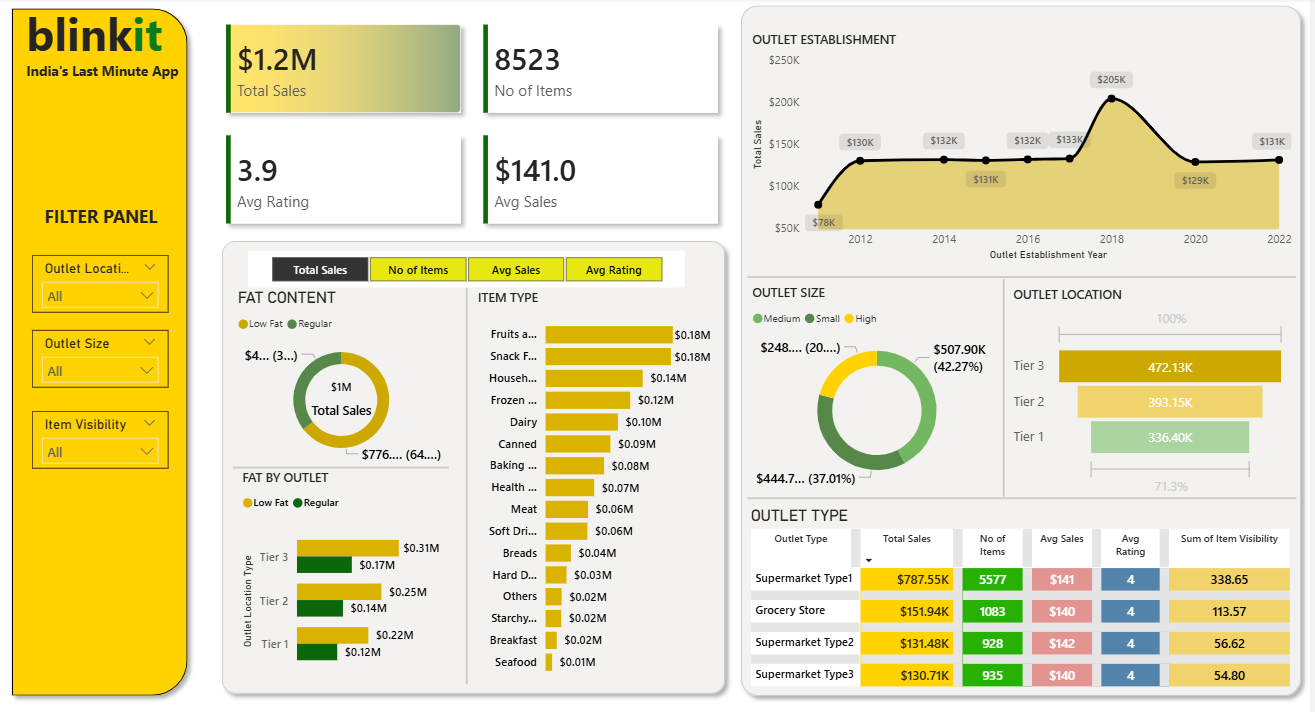

This screenshot's page, from the dashboard's own definition file:
{"tool":"powerbi","page":{"name":"Page 1","canvas":[1400,800],"ordinal":0},"visuals":[{"type":"shape","box":[8.3,3.3,205,750],"z":0},{"type":"textbox","box":[26.9,0,169.5,78.5],"z":1000},{"type":"textbox","box":[26.9,62,204.6,31],"z":2000},{"type":"cardVisual","fields":{"Data":["BlinkIT Grocery Data.Total Sales","BlinkIT Grocery Data.No of Items","BlinkIT Grocery Data.Avg Rating","BlinkIT Grocery Data.Avg Sales"]},"box":[215,0,583.3,270],"z":3000},{"type":"shape","box":[231.5,250.1,553.9,500.2],"z":4000},{"type":"donutChart","title":"FAT CONTENT","fields":{"Y":["BlinkIT Grocery Data.Total Sales"],"Category":["BlinkIT Grocery Data.Item Fat Content"]},"box":[252,310,230,192],"z":5000},{"type":"slicer","fields":{"Values":["Metrics.Metrics"]},"box":[268.7,270.8,465.1,39.3],"z":6000},{"type":"card","fields":{"Values":["BlinkIT Grocery Data.Total Sales"]},"box":[320,396,96,60],"z":7000},{"type":"clusteredBarChart","title":"FAT BY OUTLET","fields":{"Y":["BlinkIT Grocery Data.Total Sales"],"Category":["BlinkIT Grocery Data.Outlet Location Type"],"Series":["BlinkIT Grocery Data.Item Fat Content"]},"box":[258,502,220,230],"z":8000},{"type":"shape","box":[252,404,230,194],"z":9000},{"type":"shape","box":[392,310,220,422],"z":10000},{"type":"barChart","title":"ITEM TYPE","fields":{"Y":["BlinkIT Grocery Data.Total Sales"],"Category":["BlinkIT Grocery Data.Item Type"]},"box":[508,310,258,422],"z":11000},{"type":"shape","box":[785,0,614.4,753.6],"z":12000},{"type":"lineChart","title":"OUTLET ESTABLISHMENT","fields":{"Category":["BlinkIT Grocery Data.Outlet Establishment Year"],"Y":["BlinkIT Grocery Data.Total Sales"]},"box":[800.9,35.6,584,250],"z":13000},{"type":"shape","box":[800.9,201.6,584,194],"z":14000},{"type":"donutChart","title":"OUTLET SIZE","fields":{"Y":["BlinkIT Grocery Data.Total Sales"],"Category":["BlinkIT Grocery Data.Outlet Size"]},"box":[800.9,305.6,275,225],"z":15000},{"type":"funnel","title":"OUTLET LOCATION","fields":{"Y":["Sum(BlinkIT Grocery Data.Sales)"],"Category":["BlinkIT Grocery Data.Outlet Location Type"]},"box":[1078,306,300,230],"z":16000},{"type":"shape","box":[962.9,299.6,220,232],"z":17000},{"type":"shape","box":[800.5,436.2,584.6,195.4],"z":18000},{"type":"pivotTable","title":"OUTLET TYPE","fields":{"Rows":["BlinkIT Grocery Data.Outlet Type"],"Values":["BlinkIT Grocery Data.Total Sales","BlinkIT Grocery Data.No of Items","BlinkIT Grocery Data.Avg Sales","BlinkIT Grocery Data.Avg Rating","Sum(BlinkIT Grocery Data.Item Visibility)"]},"box":[798.3,541.6,589.6,198.7],"z":19000},{"type":"slicer","fields":{"Values":["BlinkIT Grocery Data.Outlet Location Type"]},"box":[38.7,274.7,145.3,61.3],"z":20000},{"type":"slicer","fields":{"Values":["BlinkIT Grocery Data.Outlet Size"]},"box":[38.8,355,145,61.2],"z":21000},{"type":"slicer","fields":{"Values":["BlinkIT Grocery Data.Item Visibility"]},"box":[38.8,441.2,145,61.2],"z":22000},{"type":"textbox","box":[38.3,215,146.7,35],"z":23000}]}

Visuals, with their boxes on the page's 1400x800 design canvas (x1, y1, x2, y2). These are canvas units, not pixel positions in the 1315x712 screenshot, which may show the page scaled, cropped or inside an application window:
shape: box(8, 3, 213, 753)
textbox: box(27, 0, 196, 78)
textbox: box(27, 62, 232, 93)
cardVisual - BlinkIT Grocery Data.Total Sales x BlinkIT Grocery Data.No of Items: box(215, 0, 798, 270)
shape: box(232, 250, 785, 750)
"FAT CONTENT" donutChart: box(252, 310, 482, 502)
slicer - Metrics.Metrics: box(269, 271, 734, 310)
card - BlinkIT Grocery Data.Total Sales: box(320, 396, 416, 456)
"FAT BY OUTLET" clusteredBarChart: box(258, 502, 478, 732)
shape: box(252, 404, 482, 598)
shape: box(392, 310, 612, 732)
"ITEM TYPE" barChart: box(508, 310, 766, 732)
shape: box(785, 0, 1399, 754)
"OUTLET ESTABLISHMENT" lineChart: box(801, 36, 1385, 286)
shape: box(801, 202, 1385, 396)
"OUTLET SIZE" donutChart: box(801, 306, 1076, 531)
"OUTLET LOCATION" funnel: box(1078, 306, 1378, 536)
shape: box(963, 300, 1183, 532)
shape: box(800, 436, 1385, 632)
"OUTLET TYPE" pivotTable: box(798, 542, 1388, 740)
slicer - BlinkIT Grocery Data.Outlet Location Type: box(39, 275, 184, 336)
slicer - BlinkIT Grocery Data.Outlet Size: box(39, 355, 184, 416)
slicer - BlinkIT Grocery Data.Item Visibility: box(39, 441, 184, 502)
textbox: box(38, 215, 185, 250)
